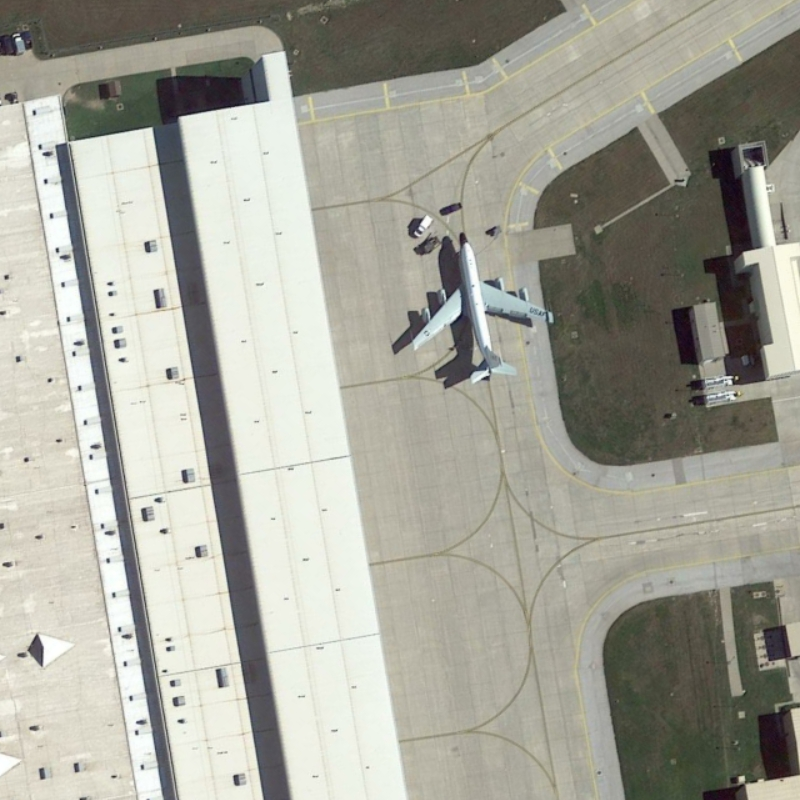A11: (399, 228, 560, 388)
